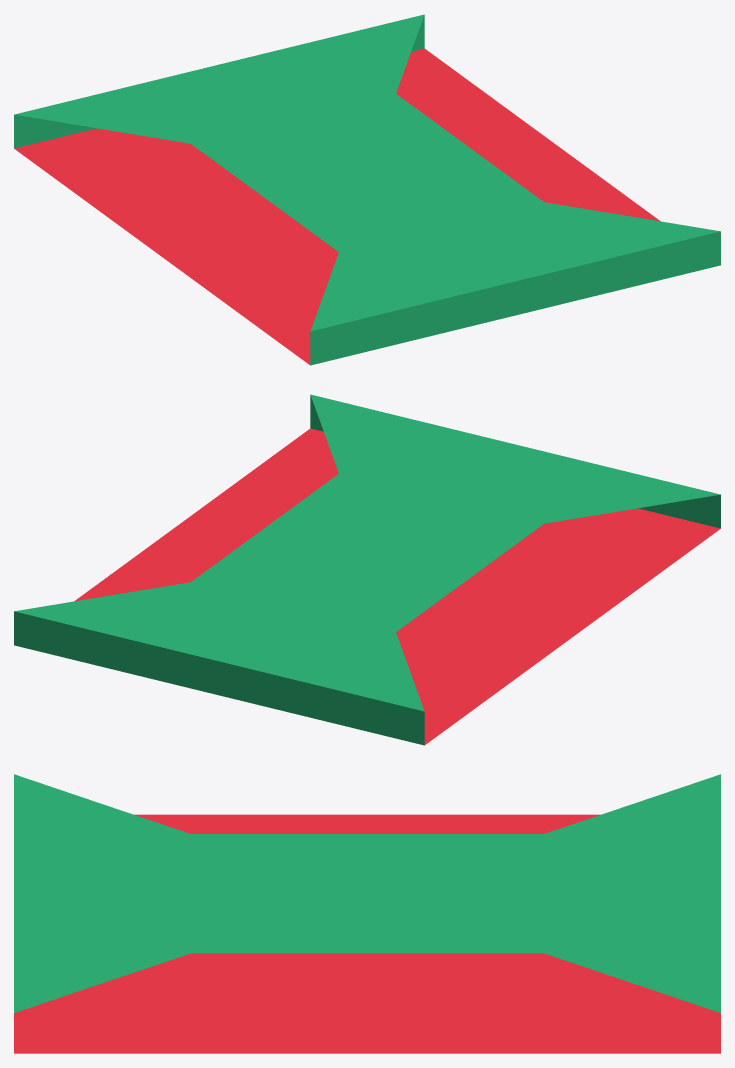
The model's file is NarrowSquare base.FBX.
The picture shows the model from 3 angles, top to bottom: view 1: azimuth 30°, elevation 25°; view 2: azimuth 150°, elevation 25°; view 3: azimuth 270°, elevation 25°; orthographic projection. The views are drawn at different scales.
Parts seen in each view (by area): view 1: narrowSquare; view 2: narrowSquare; view 3: narrowSquare.
Part boxes in pixels (x1,y1,x2,y2): narrowSquare: [14, 14, 720, 365]; narrowSquare: [14, 394, 720, 745]; narrowSquare: [14, 774, 720, 1053].
Bounding box in the file's own units: 79.99 × 6.33 × 99.99.
